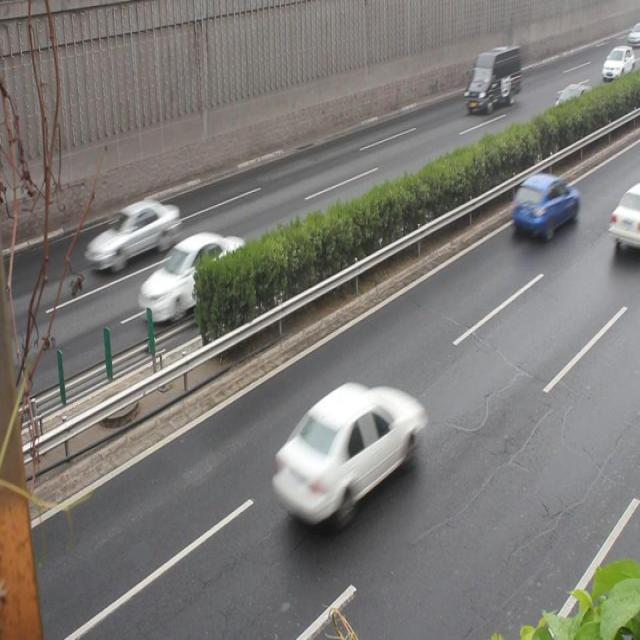car: (271, 382, 424, 516), (136, 228, 245, 320), (85, 196, 179, 266), (511, 172, 578, 237), (547, 82, 598, 132), (606, 178, 640, 244)
